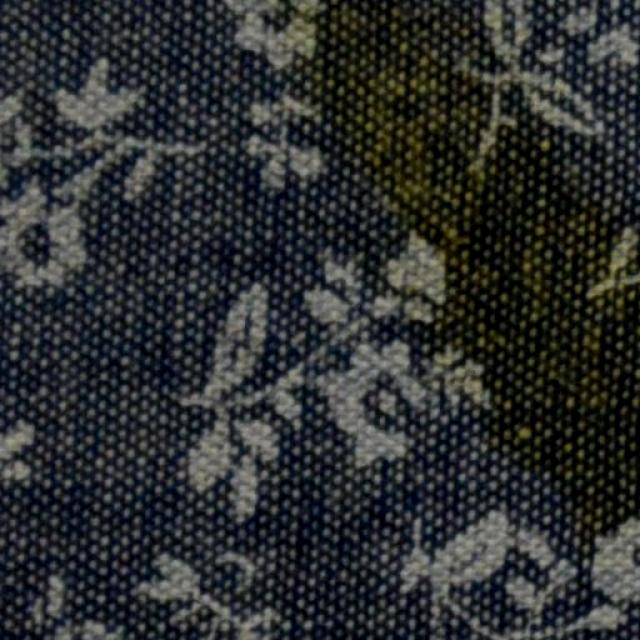Stain: (308, 2, 639, 543)
